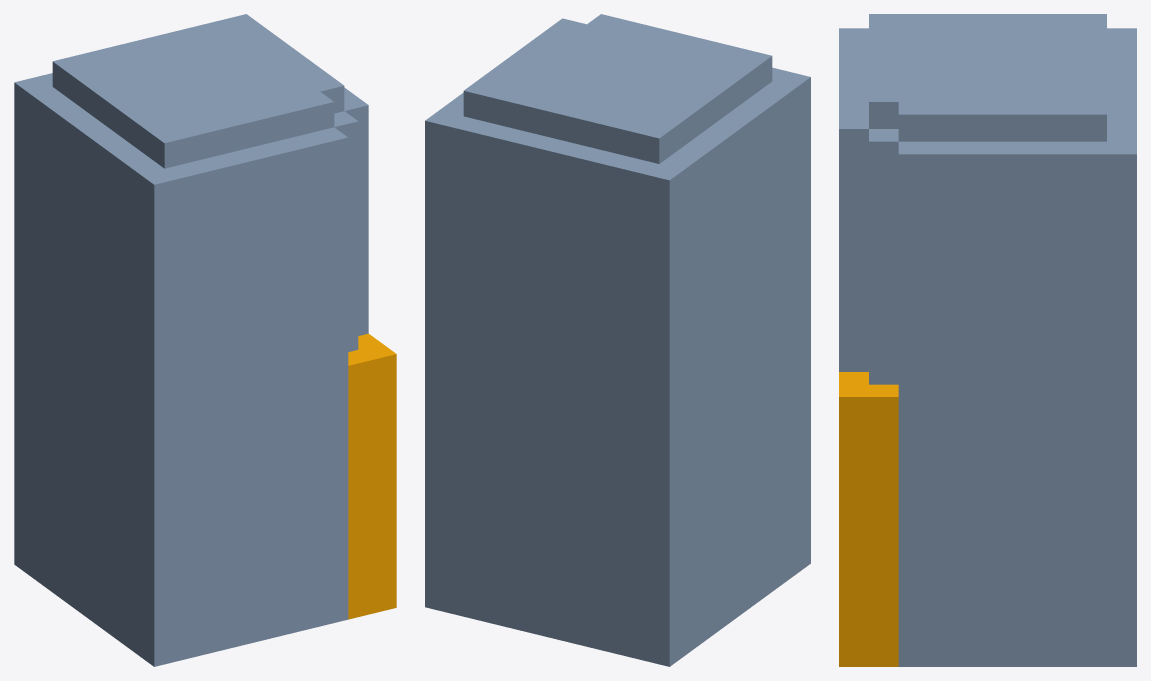
The model's file is wall_0.obj.
3 renders of one model, left to right at view 1: azimuth 30°, elevation 25°; view 2: azimuth 150°, elevation 25°; view 3: azimuth 270°, elevation 25°, orthographic. The views are drawn at different scales.
Bounding box in the file's own units: 10 × 20 × 10.
1 material, 1 textured.
